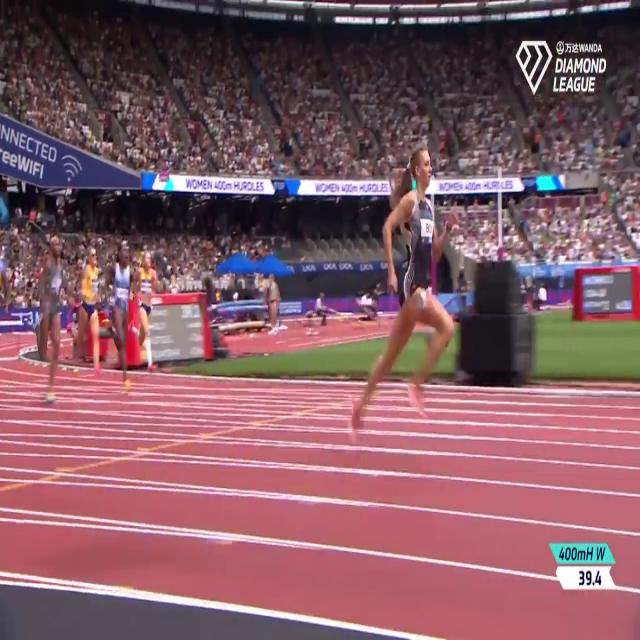athlete: (348, 132, 460, 450), (33, 226, 67, 408), (104, 235, 140, 394), (72, 233, 105, 387), (133, 247, 163, 379)
